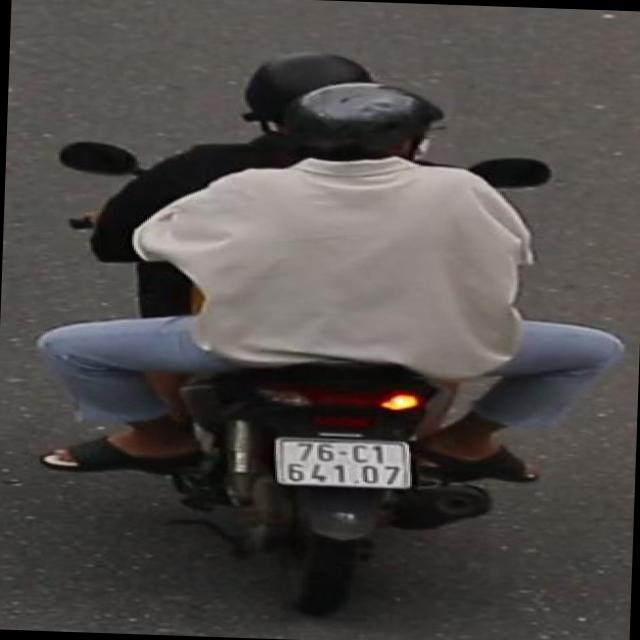LP: (268, 433, 419, 498)
helmet: (286, 78, 454, 176), (236, 46, 376, 110)
